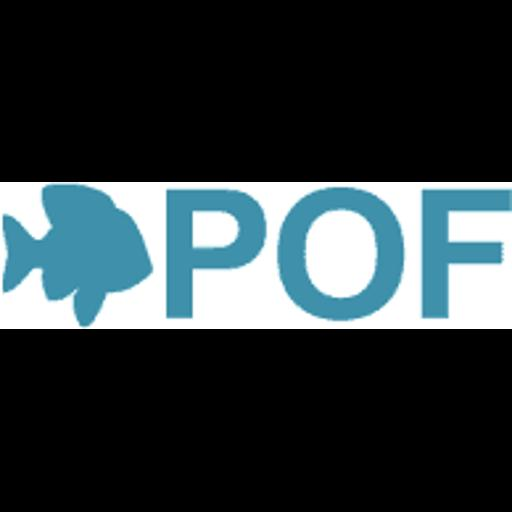POF: (0, 182, 512, 329)
